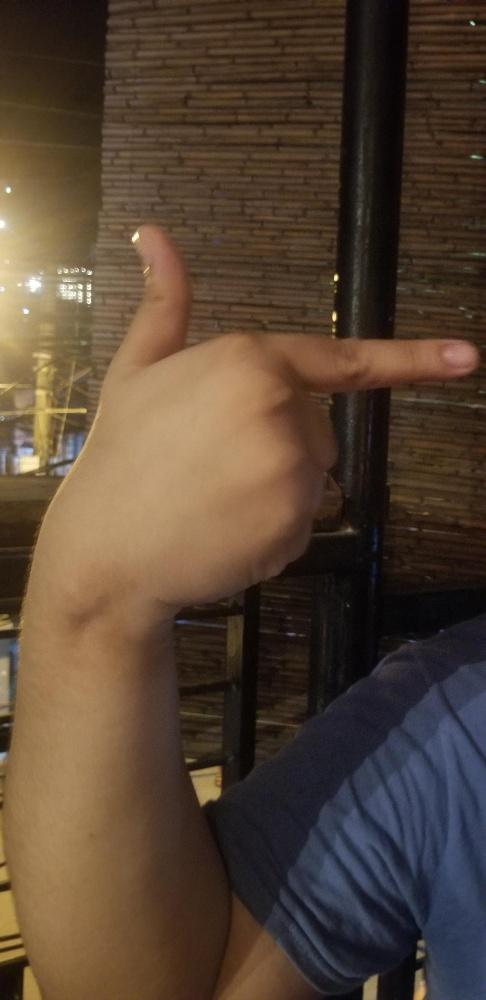g: (96, 223, 477, 592)
